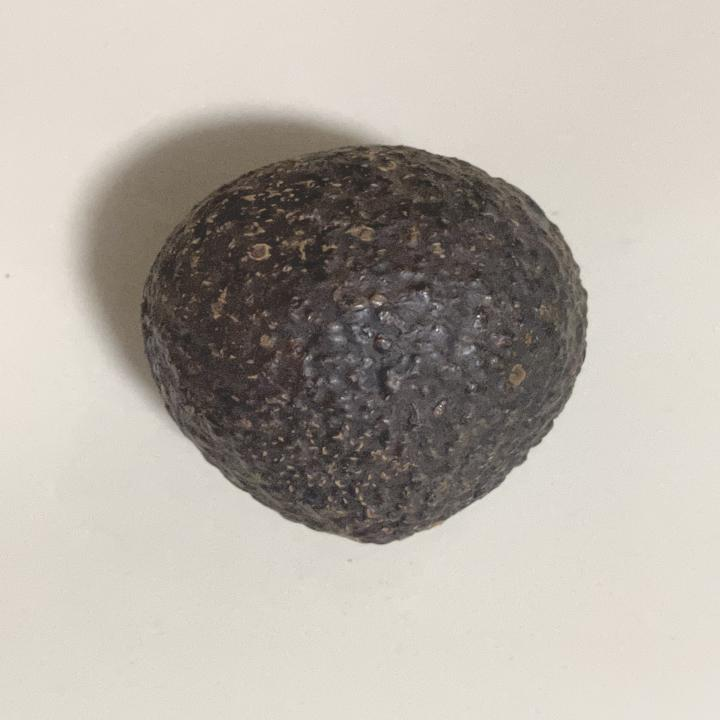Level2: (131, 138, 596, 552)
